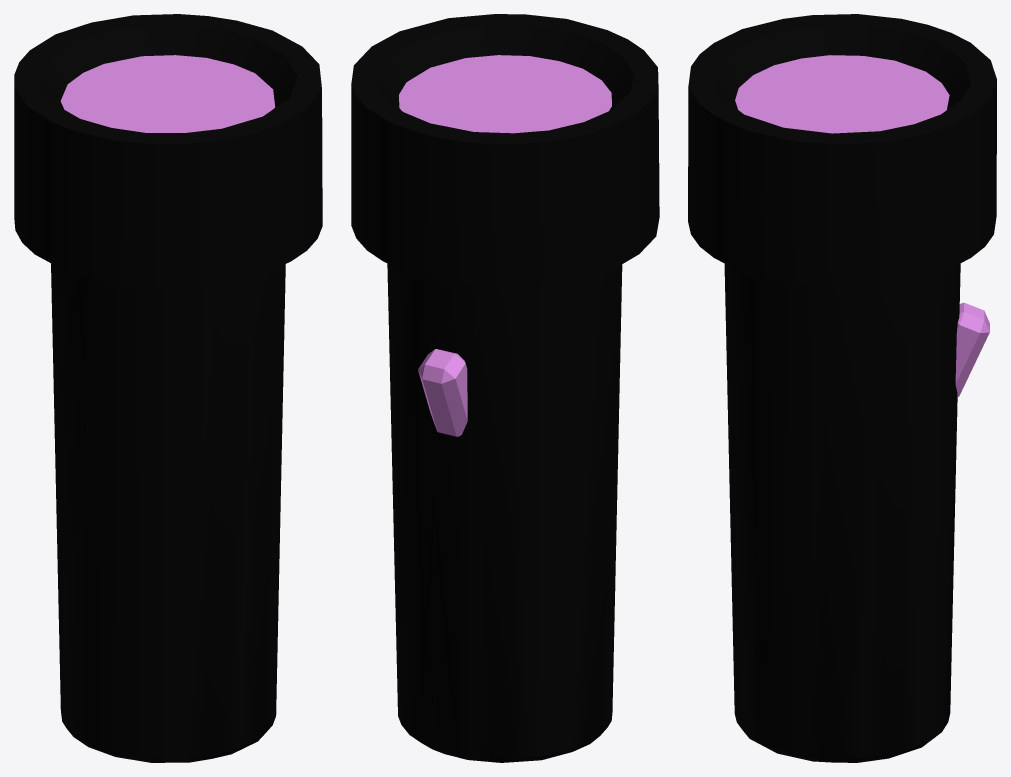
The model's file is flashlight.fbx.
3 views of the same model, side by side, from view 1: azimuth 30°, elevation 25°; view 2: azimuth 150°, elevation 25°; view 3: azimuth 270°, elevation 25° (orthographic).
Visible parts, largest first — view 1: Cylinder; view 2: Cylinder; view 3: Cylinder.
Part boxes in pixels (left/top/right/bottom): Cylinder: left=14, top=14, right=322, bottom=762; Cylinder: left=351, top=14, right=659, bottom=762; Cylinder: left=688, top=14, right=996, bottom=762.
Bounding box in the file's own units: 286 × 656 × 286.
